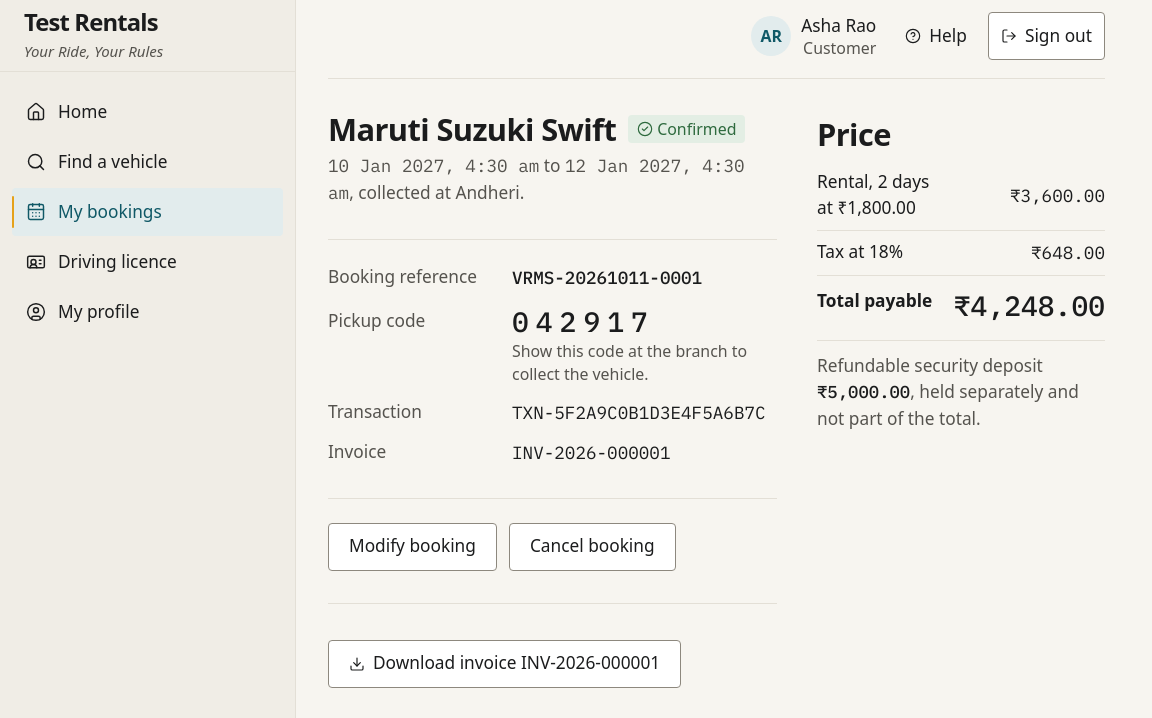
Test case: booking detail and invoice (History.Download) › says so when the invoice cannot be downloaded
The width and height of the screenshot is (1152, 718).
(page scrolled)
Click the button "Download invoice INV-2026-000001".
click(505, 664)  # box [328,640,681,688]
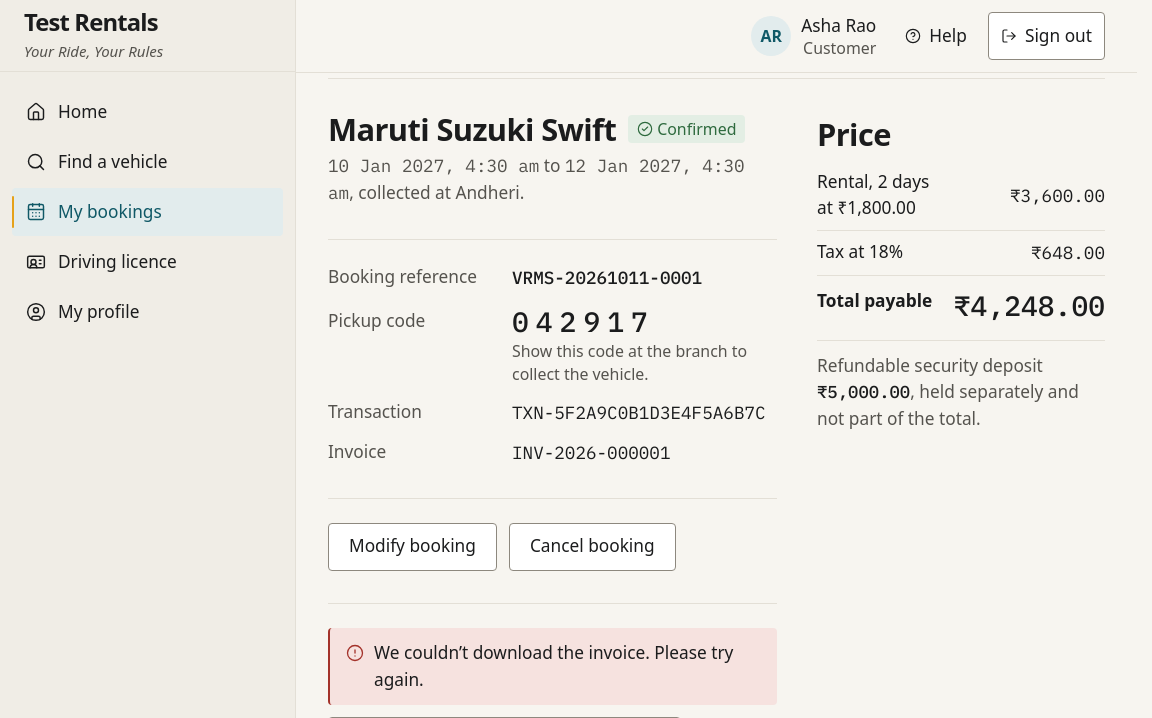
Check: the message reads "We couldn’t download the invoice. Please try again.", box [374,641,733,691]
